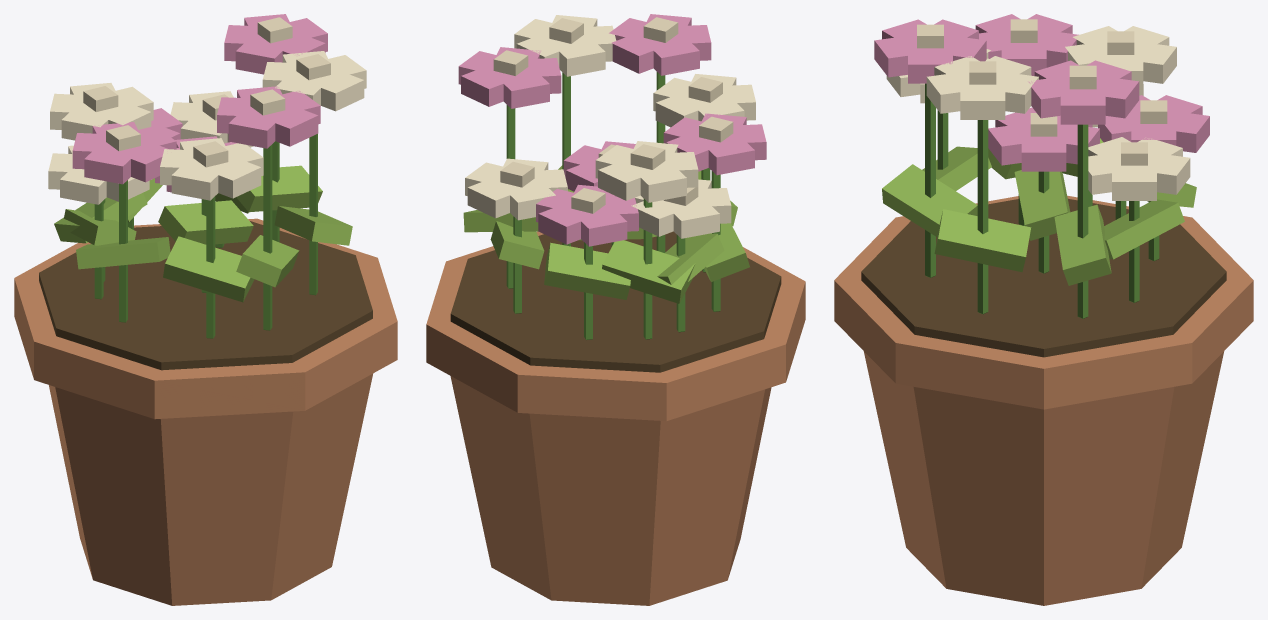
The model's file is flower-planter.glb.
The picture shows the model from 3 angles, left to right: view 1: azimuth 30°, elevation 25°; view 2: azimuth 150°, elevation 25°; view 3: azimuth 270°, elevation 25°; orthographic projection. The views are drawn at different scales.
Visible parts, largest first — view 1: Terracotta assembly, Potting soil assembly, Fresh leaf tips assembly, Ivory rose assembly, Pink flowers assembly, Climbing rose leaves assembly, Canvas cream assembly; view 2: Terracotta assembly, Potting soil assembly, Ivory rose assembly, Pink flowers assembly, Fresh leaf tips assembly, Canvas cream assembly, Climbing rose leaves assembly; view 3: Terracotta assembly, Potting soil assembly, Pink flowers assembly, Fresh leaf tips assembly, Ivory rose assembly, Climbing rose leaves assembly, Canvas cream assembly.
Part boxes in pixels (x1=…): Terracotta assembly: x1=14, y1=218, x2=397, y2=605; Potting soil assembly: x1=39, y1=221, x2=372, y2=370; Fresh leaf tips assembly: x1=54, y1=165, x2=352, y2=302; Ivory rose assembly: x1=48, y1=51, x2=366, y2=204; Pink flowers assembly: x1=72, y1=14, x2=327, y2=192; Climbing rose leaves assembly: x1=94, y1=134, x2=317, y2=338; Canvas cream assembly: x1=83, y1=17, x2=330, y2=167; Terracotta assembly: x1=426, y1=231, x2=805, y2=605; Potting soil assembly: x1=450, y1=231, x2=781, y2=372; Ivory rose assembly: x1=465, y1=15, x2=755, y2=238; Pink flowers assembly: x1=458, y1=14, x2=766, y2=246; Fresh leaf tips assembly: x1=463, y1=165, x2=749, y2=303; Canvas cream assembly: x1=493, y1=17, x2=733, y2=213; Climbing rose leaves assembly: x1=506, y1=72, x2=720, y2=339; Terracotta assembly: x1=834, y1=195, x2=1253, y2=605; Potting soil assembly: x1=861, y1=198, x2=1226, y2=357; Pink flowers assembly: x1=874, y1=14, x2=1209, y2=171; Fresh leaf tips assembly: x1=882, y1=138, x2=1196, y2=285; Ivory rose assembly: x1=886, y1=26, x2=1190, y2=200; Climbing rose leaves assembly: x1=925, y1=83, x2=1159, y2=318; Canvas cream assembly: x1=917, y1=19, x2=1167, y2=165.
Bounding box in the file's own units: 0.7 × 0.96 × 0.7.
